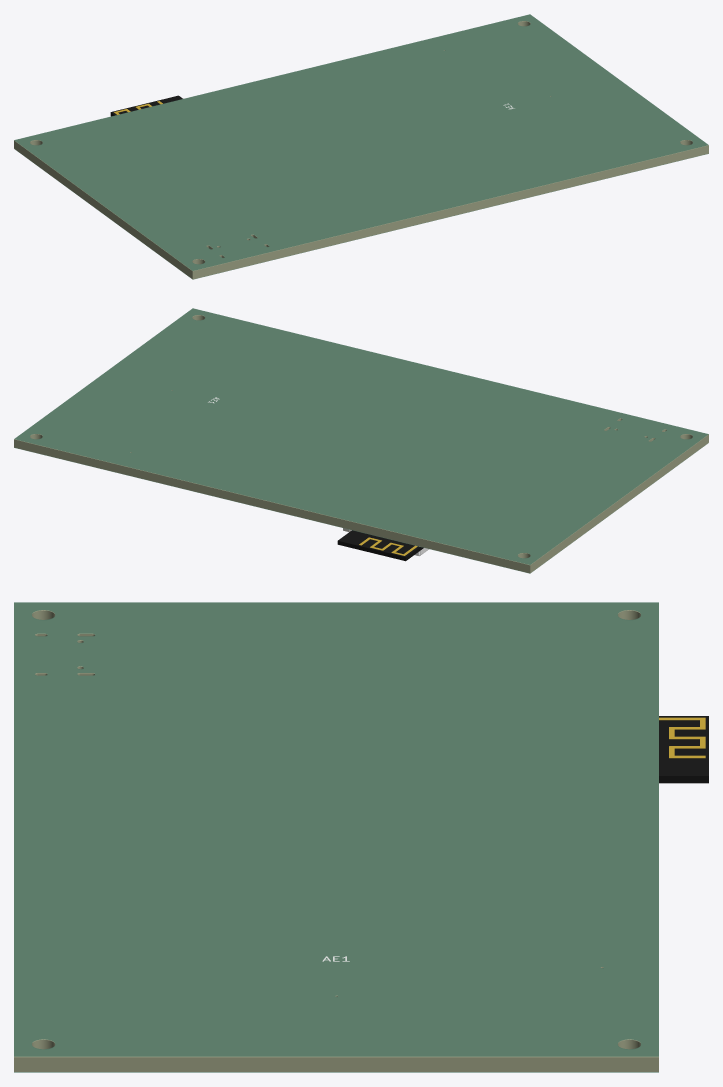
File: digital_card.glb
3 views of the same model, one above another, from view 1: azimuth 30°, elevation 25°; view 2: azimuth 150°, elevation 25°; view 3: azimuth 270°, elevation 25° (orthographic). The views are drawn at different scales.
Visible parts, largest first — view 1: =>[0:1:1:19], =>[0:1:1:17], =>[0:1:1:18]; view 2: =>[0:1:1:19], =>[0:1:1:17], NAUO335, =>[0:1:1:18]; view 3: =>[0:1:1:19], =>[0:1:1:17], NAUO335, NAUO373.
Boxes of the visible parts, box(x1,y1,x2,y2) form: =>[0:1:1:19]: box(14, 15, 708, 279); =>[0:1:1:17]: box(14, 14, 708, 270); =>[0:1:1:18]: box(15, 149, 708, 279); =>[0:1:1:19]: box(14, 309, 708, 573); =>[0:1:1:17]: box(14, 308, 708, 564); NAUO335: box(337, 530, 423, 561); =>[0:1:1:18]: box(14, 443, 707, 573); =>[0:1:1:19]: box(14, 603, 658, 1071); =>[0:1:1:17]: box(14, 602, 658, 1056); NAUO335: box(659, 716, 708, 783); NAUO373: box(659, 717, 705, 758).
Size of the model in its own units: 0.1 by 0.00407 by 0.0647.
